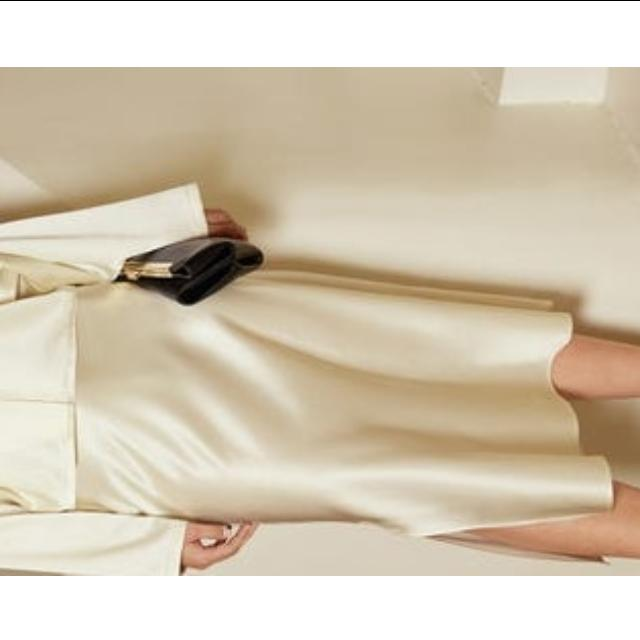silk: (1, 206, 592, 574)
